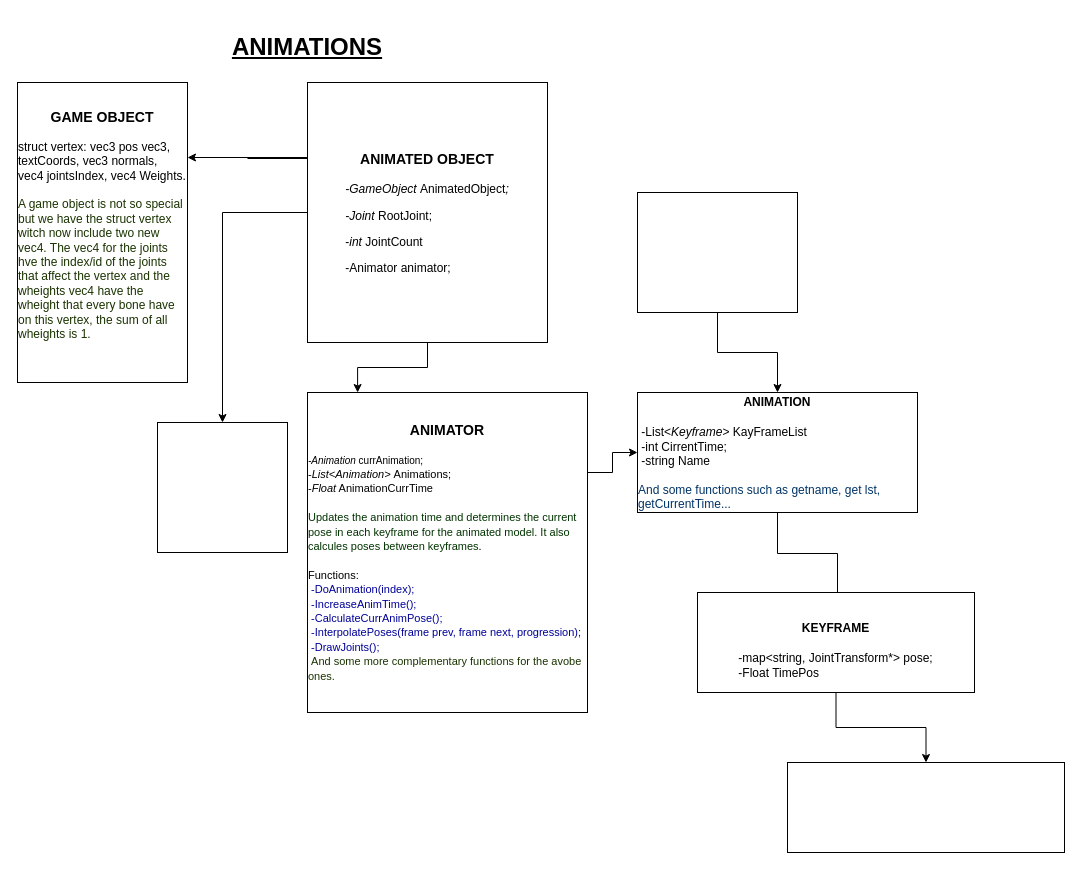
The diagram is 1082 pixels wide and 870 high, and some of its shapes have lost their labels. The box of each missing label's shape, as (x1, y1, x2, y2) in pixels:
AnimInporter BoneImporter() AnimInporter: (636, 192, 798, 312)
JOINT -List<Joint>Children -Index -Mat4x4 Transform: (156, 422, 288, 552)
JOINTTRANSFORM -vec3 Position -Quat Rotaton -vec3 Scale: (786, 762, 1064, 852)
